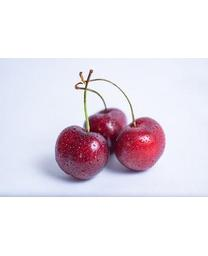cherry: (54, 125, 109, 181), (113, 117, 165, 173), (86, 107, 126, 153)
